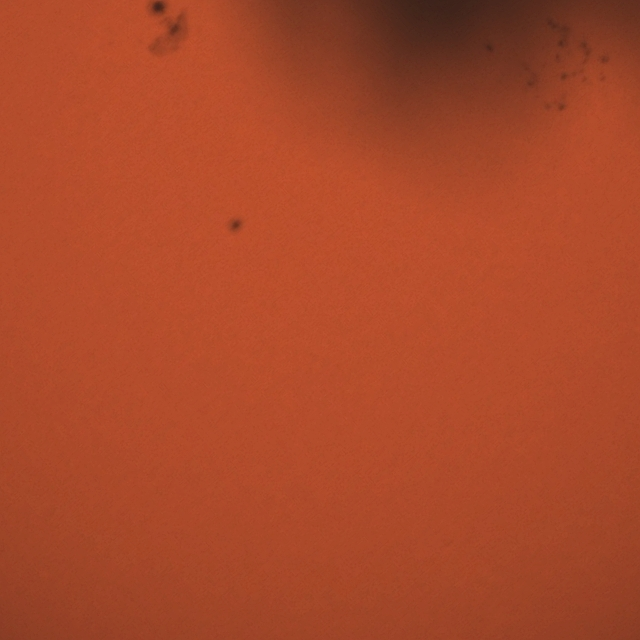sunspot: (513, 10, 622, 113), (145, 0, 184, 43), (228, 217, 244, 234), (484, 42, 494, 54)
